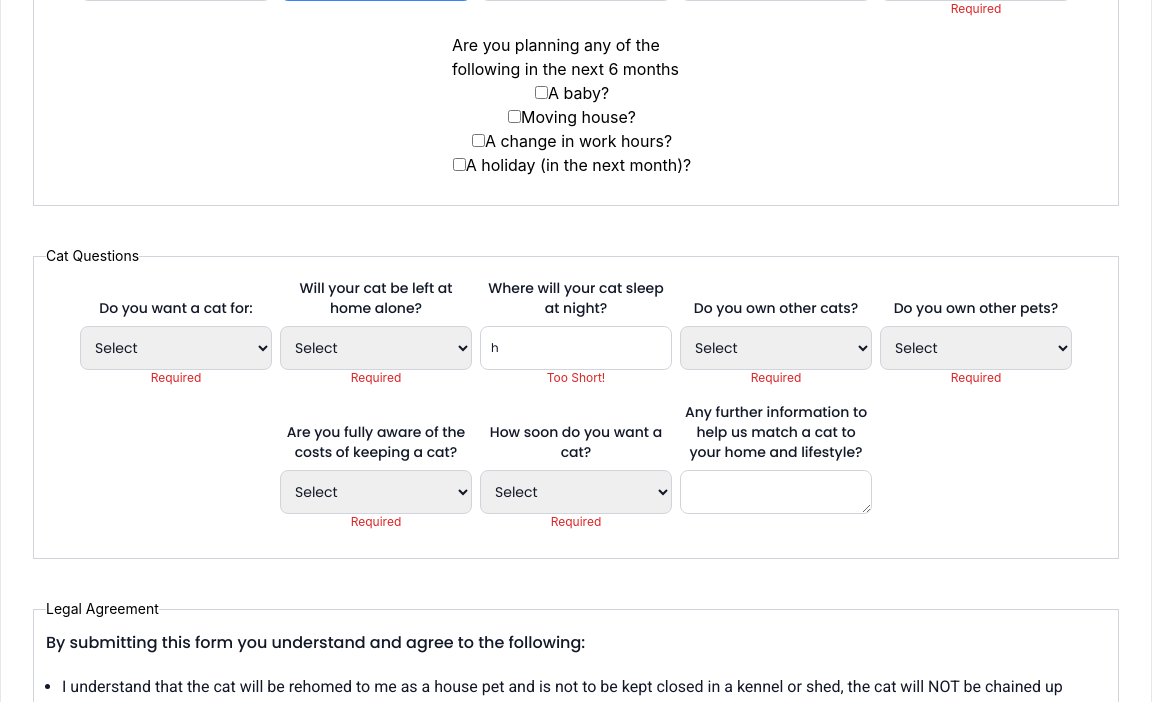
Test: Cat Adoption Form › exposes correct fields on selecting specific values - Cat Questions
(page scrolled)
expect the text "How many hours per day?" is not shown: met
expect the text "How often?" is not shown: met
Select "Yes" in the dropdown named "catQuestions.catHomeAloneInfo>catHomeAlone" below "Will your cat be left at home alone?". click: (376, 348)
box: [280,326,472,370]
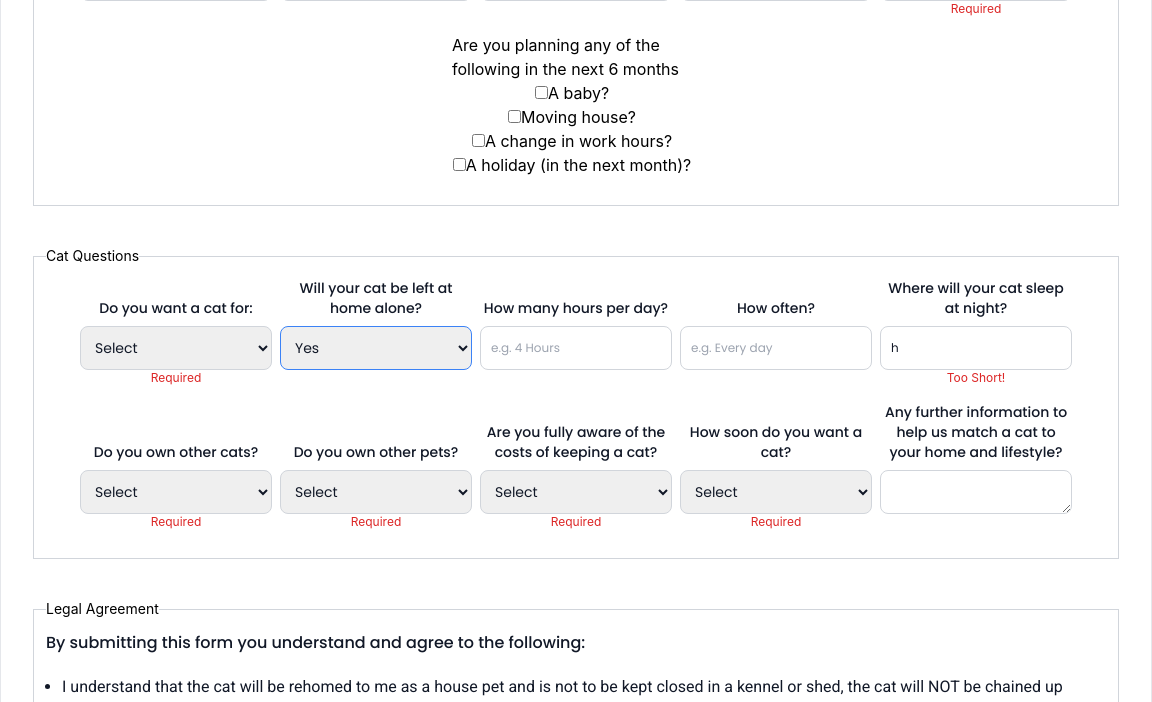
expect the text "How many hours per day?" is shown: met, box [480,298,672,318]
expect the text "How often?" is shown: met, box [737,298,815,318]
Select "No" in the dropdown named "catQuestions.ownOtherCatsCurrentInfo>ownOtherCurrentCats" below "Do you own other cats?". click: (176, 492)
box: [80,470,272,514]
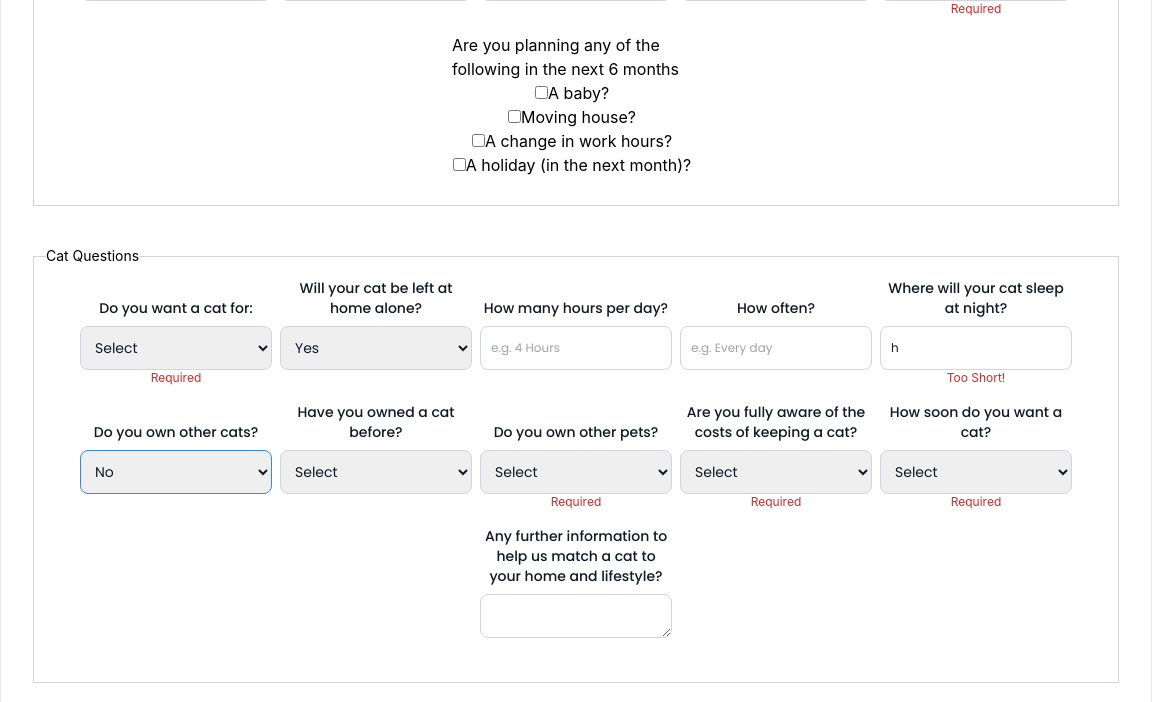
expect the text "Have you owned a cat before?" is shown: met, box [298,402,455,442]
Select "As a Child" in the dropdown named "catQuestions.ownOtherCatsPastInfo>ownOtherPastCats" below "Have you owned a cat before?". click: (376, 472)
box: [280,450,472,494]
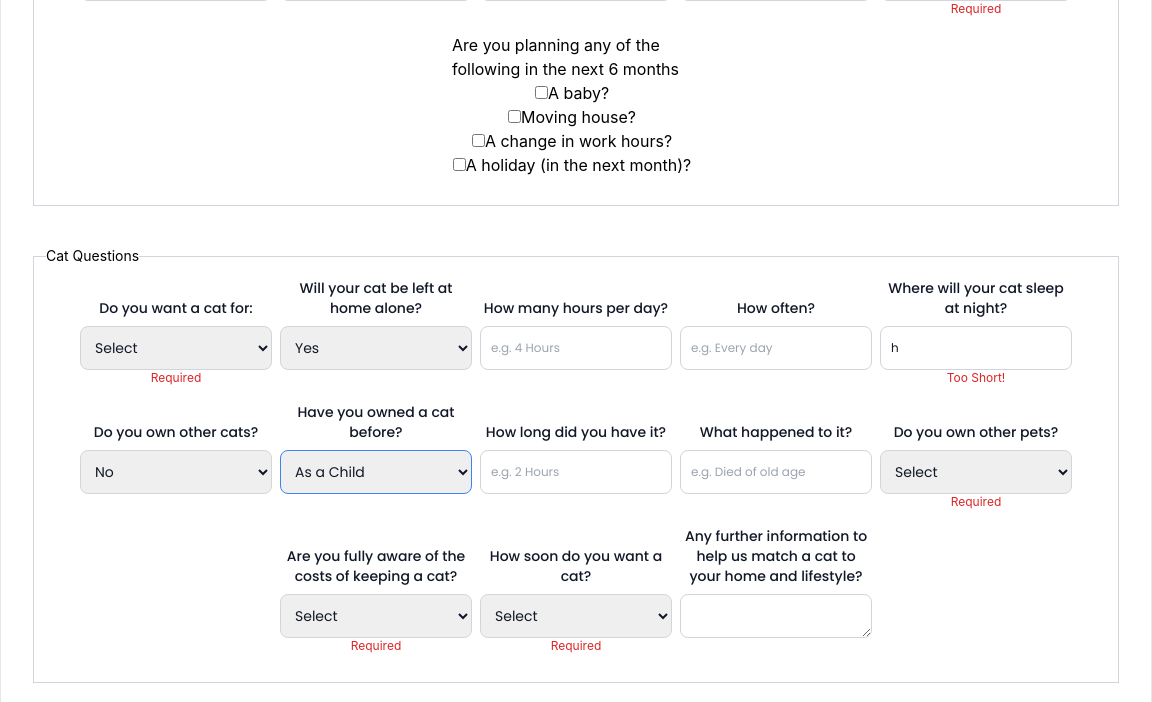
expect the text "How long did you have it?" is shown: met, box [480,422,672,442]
expect the text "What happened to it?" is shown: met, box [700,422,852,442]
Select "As an Adult" in the dropdown named "catQuestions.ownOtherCatsPastInfo>ownOtherPastCats" below "Have you owned a cat before?". click: (376, 472)
box: [280,450,472,494]
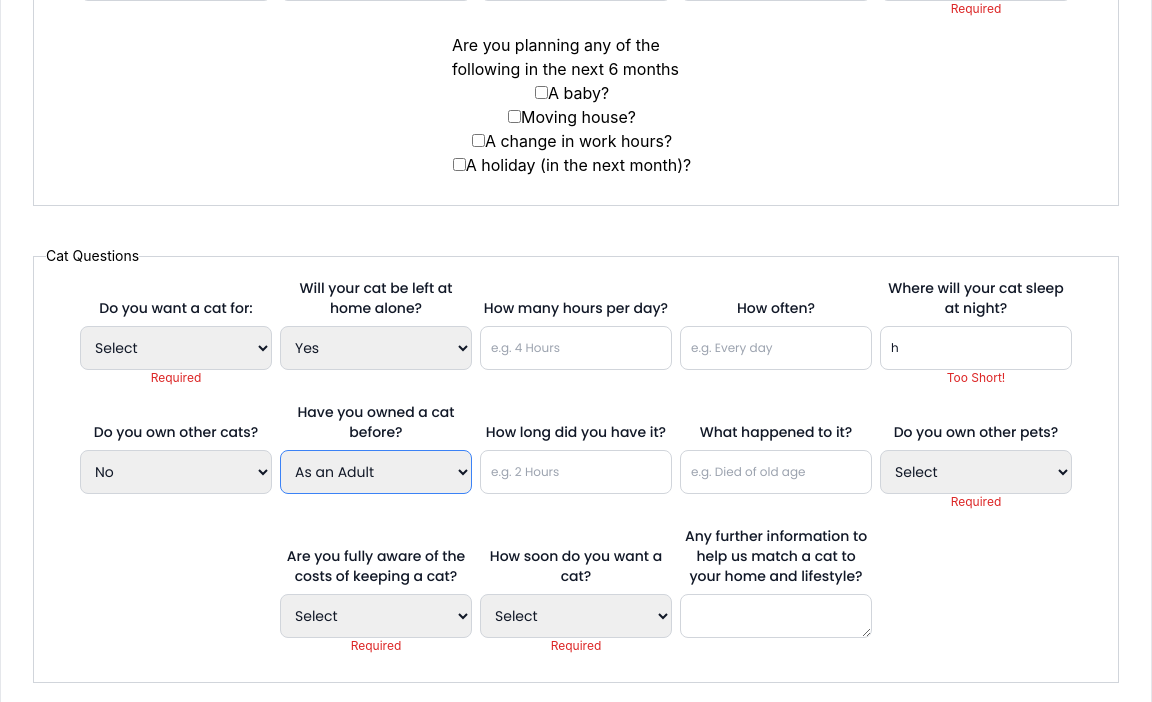
expect the text "How long did you have it?" is shown: met, box [480,422,672,442]
expect the text "What happened to it?" is shown: met, box [700,422,852,442]
Select "Yes" in the dropdown named "catQuestions.ownOtherPetsCurrentInfo>ownOtherCurrentPets" below "Do you own other pets?". click: (976, 472)
box: [880,450,1072,494]
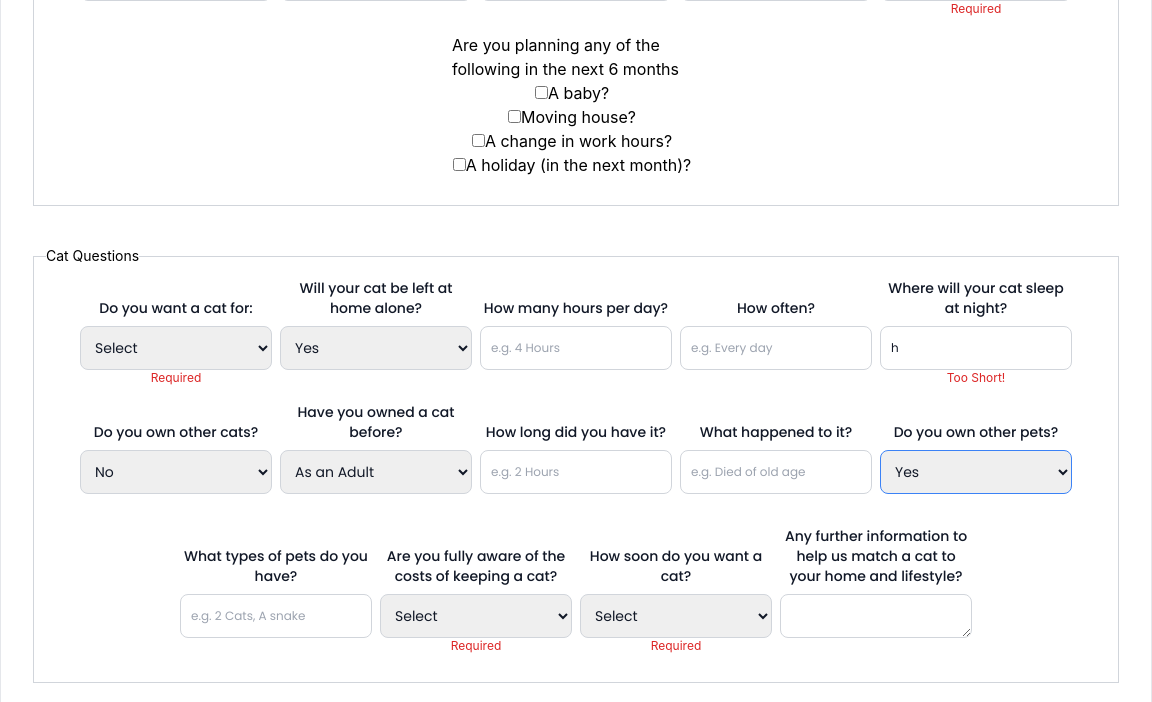
expect the text "What types of pets do you have?" is shown: met, box [180,546,372,586]
